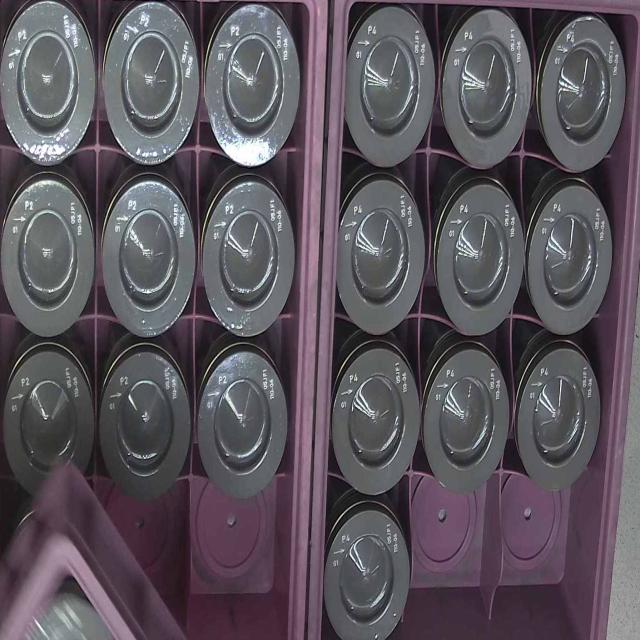P2: (104, 11, 197, 164), (5, 177, 96, 330), (205, 182, 295, 336), (106, 178, 197, 330), (5, 7, 94, 162), (210, 9, 300, 162), (200, 342, 285, 495), (105, 350, 191, 495), (7, 349, 93, 482)
P4: (444, 13, 531, 169), (438, 179, 522, 334), (541, 22, 627, 172), (342, 177, 425, 331), (529, 184, 613, 336), (333, 347, 419, 493), (348, 12, 432, 161), (426, 340, 508, 491), (519, 353, 603, 491), (330, 511, 410, 640)
